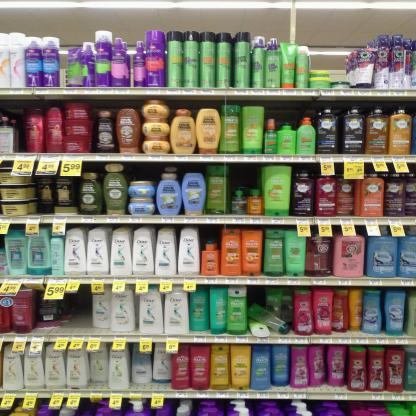Void: (305, 48, 354, 68), (66, 296, 89, 329), (130, 164, 158, 180), (236, 166, 260, 184)
